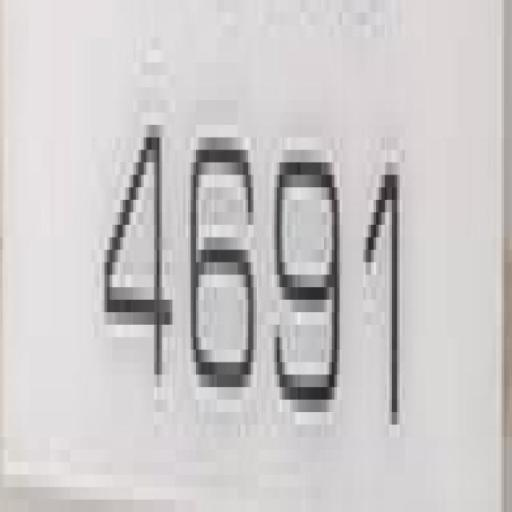number plate: (7, 0, 478, 512)
